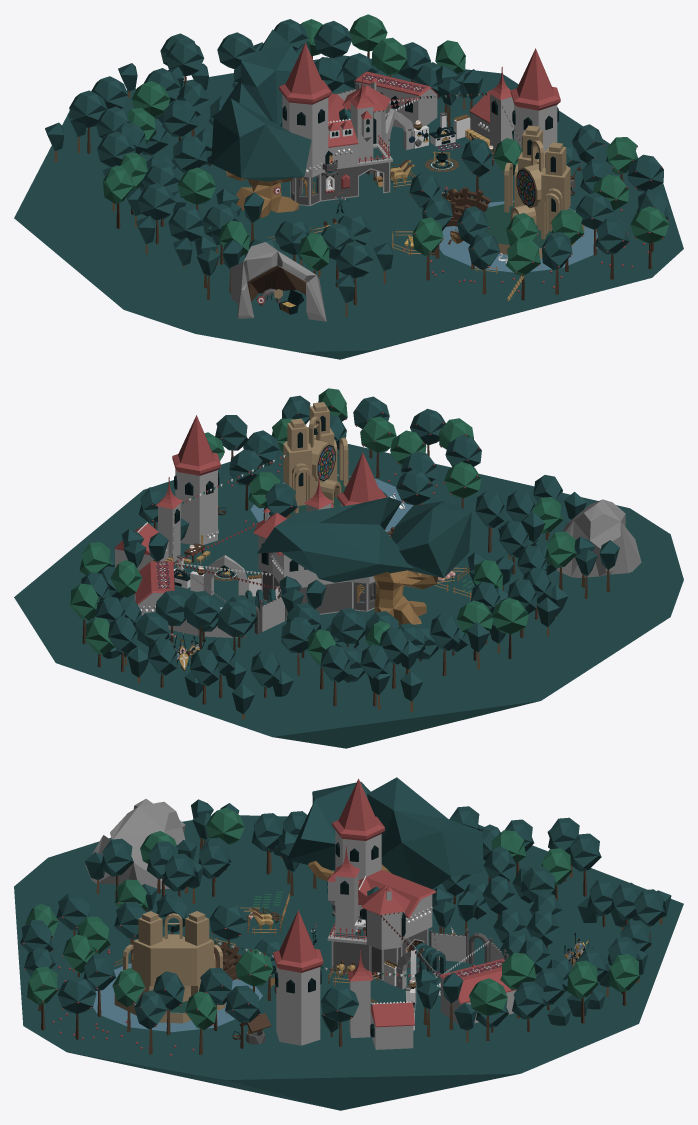
Rendered from CarnivalScene.fbx.
3 views of the same model, one above another, from view 1: azimuth 30°, elevation 25°; view 2: azimuth 150°, elevation 25°; view 3: azimuth 270°, elevation 25° (orthographic). The views are drawn at different scales.
Parts seen in each view (by area): view 1: Plane_2, Cloner_8, APPLE_TREE_2, Metaball_1, Cloner_6, Cloner_4, STONE, CAVE_ENTRANCE, TOWER_1, TOWER_1_1, HOUSE_1_1, WATER (+24 smaller); view 2: Plane_2, Cloner_8, APPLE_TREE_2, Metaball_1, Cloner_6, Cloner_4, TOWER_1_1, STONE, CAVE_ENTRANCE, Cylinder, TOWER_1, HOUSE_1_1 (+22 smaller); view 3: Plane_2, APPLE_TREE_2, Cloner_8, Metaball_1, Cloner_6, STONE, TOWER_1_1, Cloner_4, CAVE_ENTRANCE, TOWER_1, TOWER_2, HOUSE_2_1_2 (+27 smaller).
Boxes of the visible parts, x1=… form: Plane_2: x1=14, y1=55, x2=683, y2=359; Cloner_8: x1=69, y1=19, x2=441, y2=305; APPLE_TREE_2: x1=412, y1=124, x2=668, y2=300; Metaball_1: x1=211, y1=29, x2=311, y2=181; Cloner_6: x1=113, y1=54, x2=344, y2=172; Cloner_4: x1=45, y1=42, x2=469, y2=316; STONE: x1=504, y1=125, x2=570, y2=239; CAVE_ENTRANCE: x1=230, y1=242, x2=326, y2=321; TOWER_1: x1=279, y1=43, x2=331, y2=177; TOWER_1_1: x1=510, y1=48, x2=560, y2=150; HOUSE_1_1: x1=354, y1=71, x2=438, y2=128; WATER: x1=439, y1=200, x2=597, y2=272; Plane_2: x1=14, y1=444, x2=683, y2=748; Cloner_8: x1=81, y1=475, x2=562, y2=706; APPLE_TREE_2: x1=204, y1=388, x2=481, y2=519; Metaball_1: x1=257, y1=497, x2=471, y2=582; Cloner_6: x1=135, y1=590, x2=438, y2=682; Cloner_4: x1=85, y1=492, x2=586, y2=719; TOWER_1_1: x1=172, y1=415, x2=220, y2=544; STONE: x1=283, y1=402, x2=348, y2=513; CAVE_ENTRANCE: x1=556, y1=499, x2=641, y2=577; Cylinder: x1=373, y1=570, x2=437, y2=625; TOWER_1: x1=337, y1=452, x2=386, y2=583; HOUSE_1_1: x1=134, y1=561, x2=174, y2=615; Plane_2: x1=14, y1=815, x2=683, y2=1110; APPLE_TREE_2: x1=20, y1=879, x2=282, y2=1055; Cloner_8: x1=100, y1=806, x2=665, y2=1032; Metaball_1: x1=287, y1=777, x2=483, y2=889; Cloner_6: x1=442, y1=824, x2=572, y2=991; STONE: x1=123, y1=911, x2=222, y2=1002; TOWER_1_1: x1=273, y1=910, x2=323, y2=1045; Cloner_4: x1=85, y1=829, x2=671, y2=1041; CAVE_ENTRANCE: x1=85, y1=799, x2=185, y2=889; TOWER_1: x1=332, y1=778, x2=384, y2=880; TOWER_2: x1=361, y1=886, x2=410, y2=949; HOUSE_2_1_2: x1=370, y1=1001, x2=414, y2=1049.
Bounding box in the file's own units: 5578 × 3135 × 5953.
Materials: 1 (1 with a texture image).
